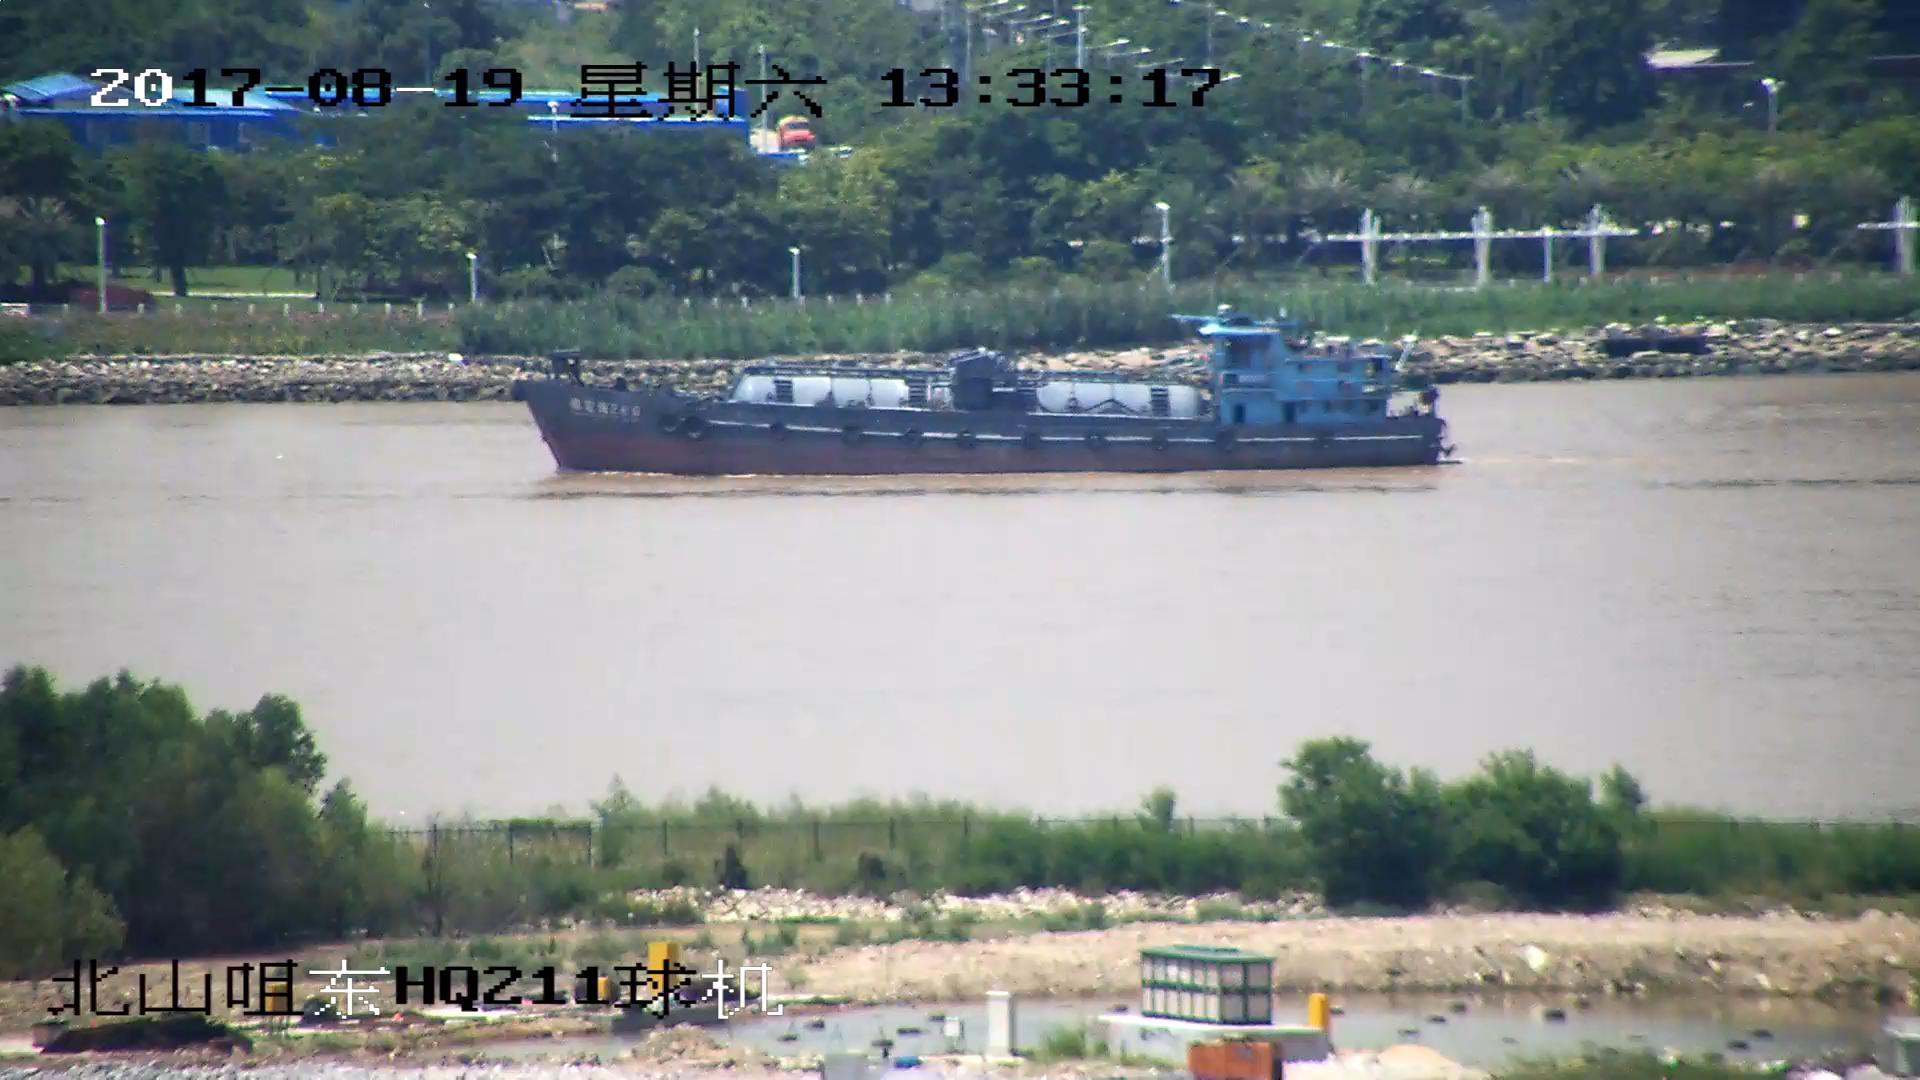bulk cargo carrier: (511, 312, 1451, 475)
